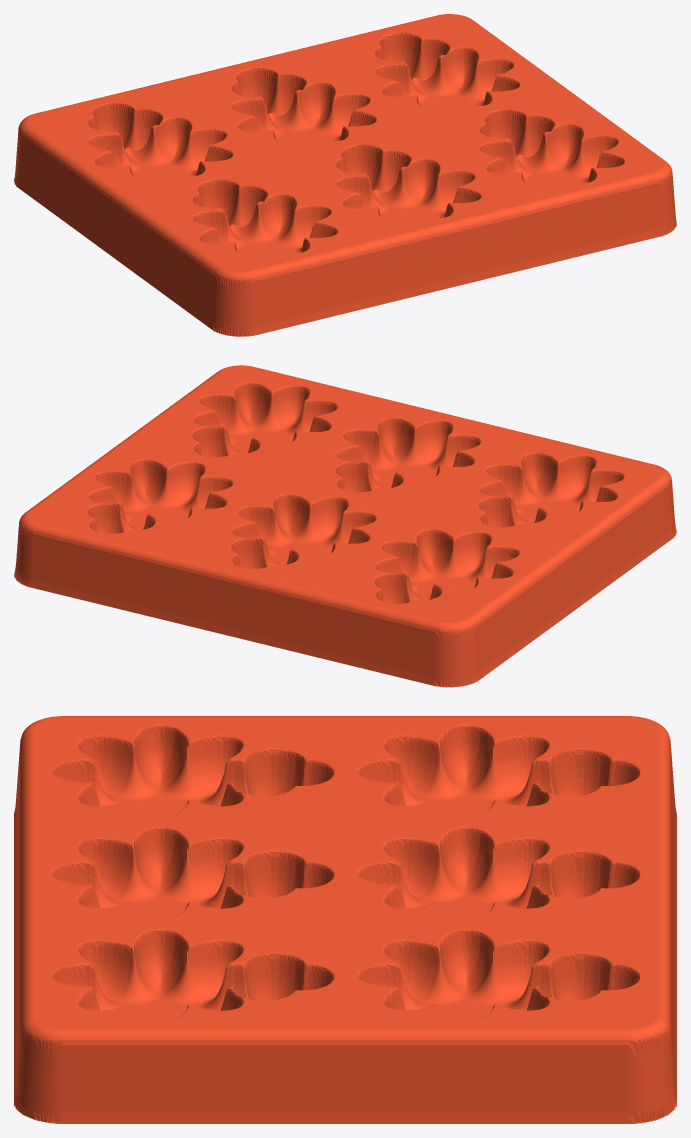
Rendered from mold.glb.
The picture shows the model from 3 angles, top to bottom: view 1: azimuth 30°, elevation 25°; view 2: azimuth 150°, elevation 25°; view 3: azimuth 270°, elevation 25°; orthographic projection. The views are drawn at different scales.
Visible parts, largest first — view 1: geometry_0; view 2: geometry_0; view 3: geometry_0.
Part boxes in pixels (bbox=[...]): geometry_0: bbox=[14, 14, 676, 336]; geometry_0: bbox=[14, 365, 676, 687]; geometry_0: bbox=[14, 716, 676, 1123].
Bounding box in the file's own units: 0.1419 × 0.0175 × 0.1211.
